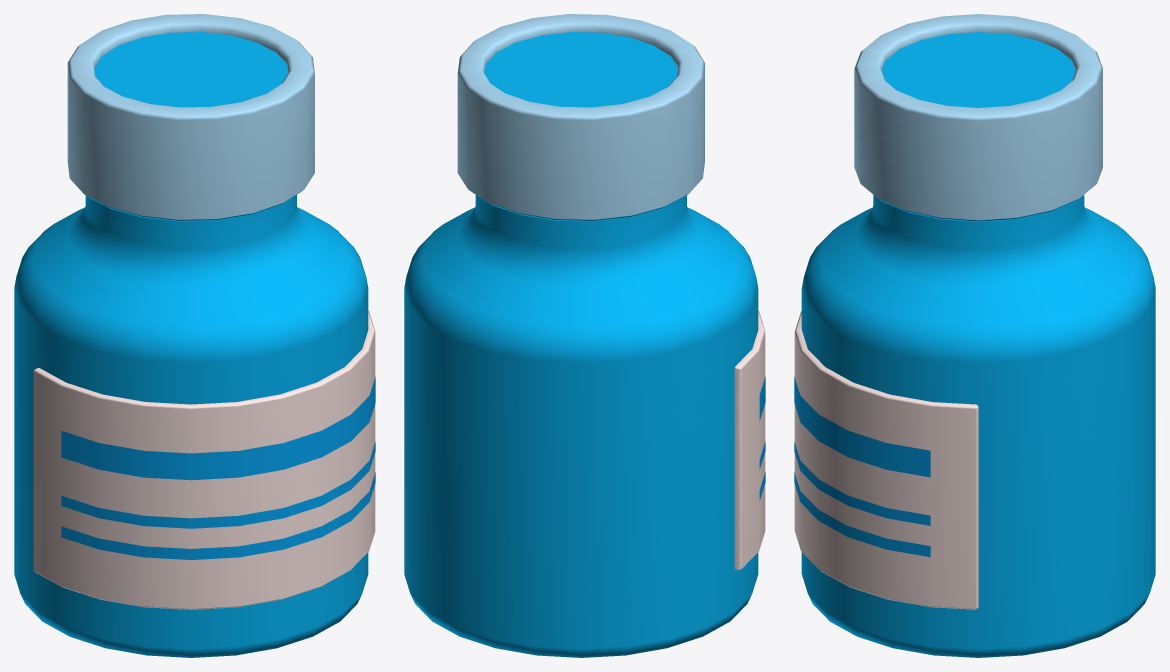
File: Public_3_Bottle_of_Medicine_4.glb
3 views of the same model, side by side, from view 1: azimuth 30°, elevation 25°; view 2: azimuth 150°, elevation 25°; view 3: azimuth 270°, elevation 25° (orthographic).
Parts seen in each view (by area): view 1: Public_3_Bottle_of_Medicine_4; view 2: Public_3_Bottle_of_Medicine_4; view 3: Public_3_Bottle_of_Medicine_4.
Part boxes in pixels (box(x1,y1,x2,y2)): Public_3_Bottle_of_Medicine_4: box(14, 14, 375, 657); Public_3_Bottle_of_Medicine_4: box(404, 14, 765, 657); Public_3_Bottle_of_Medicine_4: box(794, 14, 1155, 657).
Size of the model in its own units: 1.26 by 1.99 by 1.24.
1 material, 1 textured.
